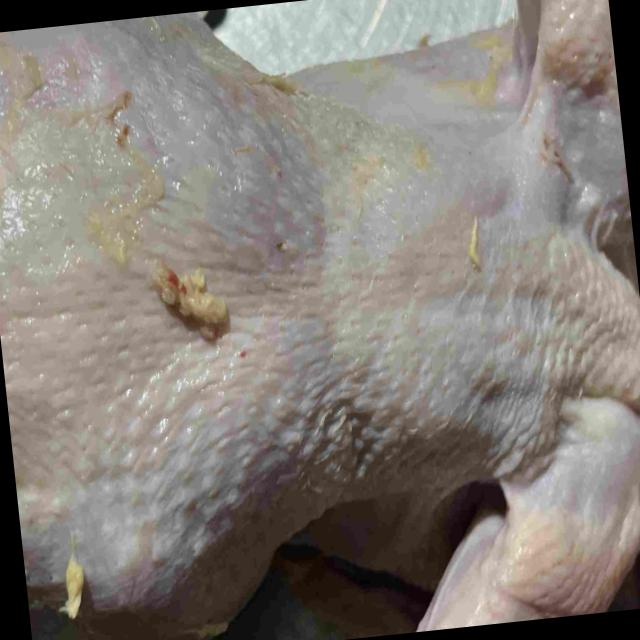back: (0, 116, 550, 504)
leg: (17, 502, 269, 640), (0, 12, 240, 137)
neck: (560, 228, 640, 413)
wing: (419, 399, 640, 631), (515, 0, 631, 229)
